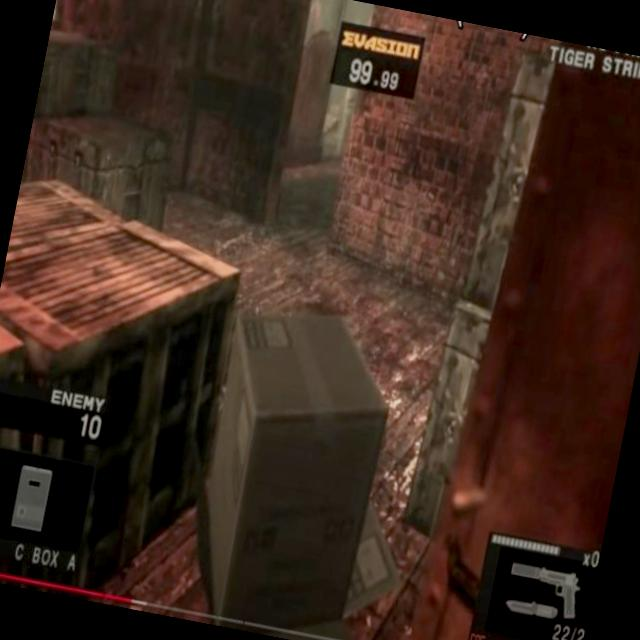snake-in-cardboard-boxes: (173, 293, 449, 640)
